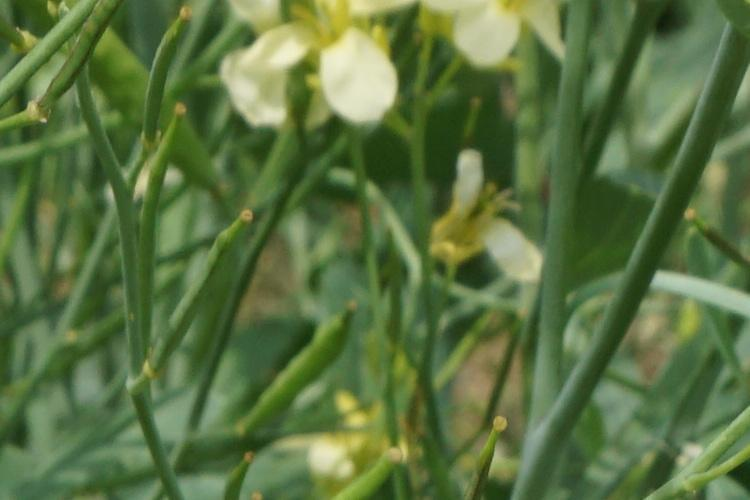pod: (242, 282, 377, 436), (136, 211, 249, 369), (40, 14, 123, 149), (132, 19, 209, 159), (143, 114, 181, 360), (472, 403, 523, 496)
white: (237, 4, 444, 128)
